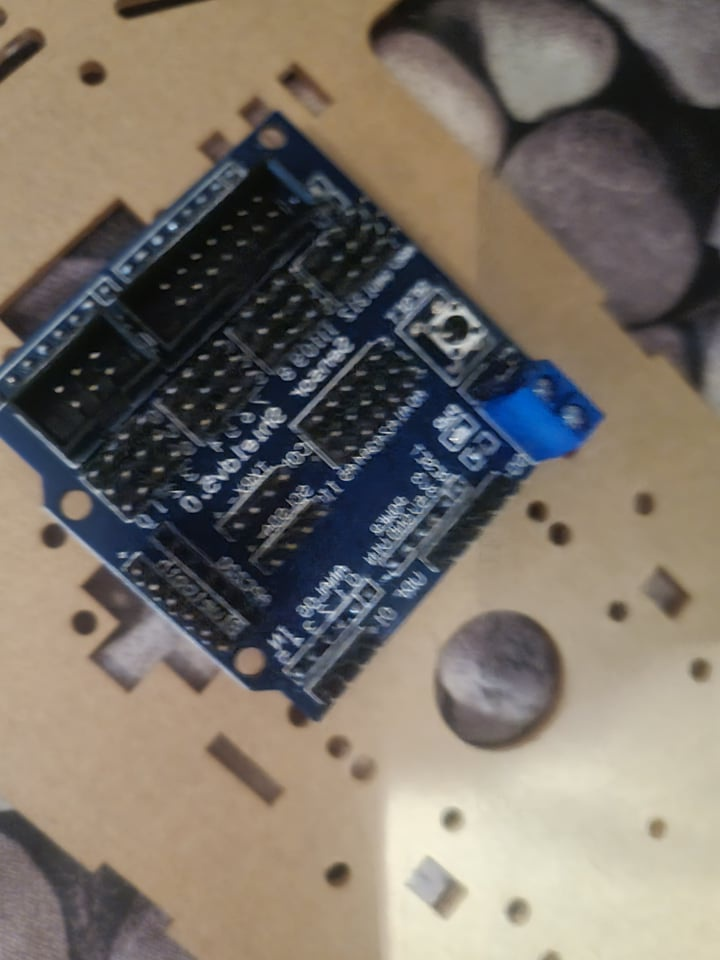5V EXPANSION: (0, 113, 610, 722)
